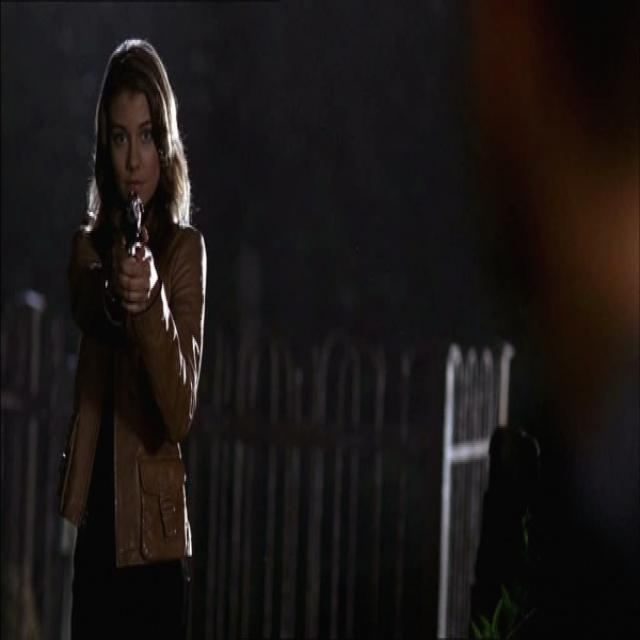weapons: (111, 173, 158, 304)
